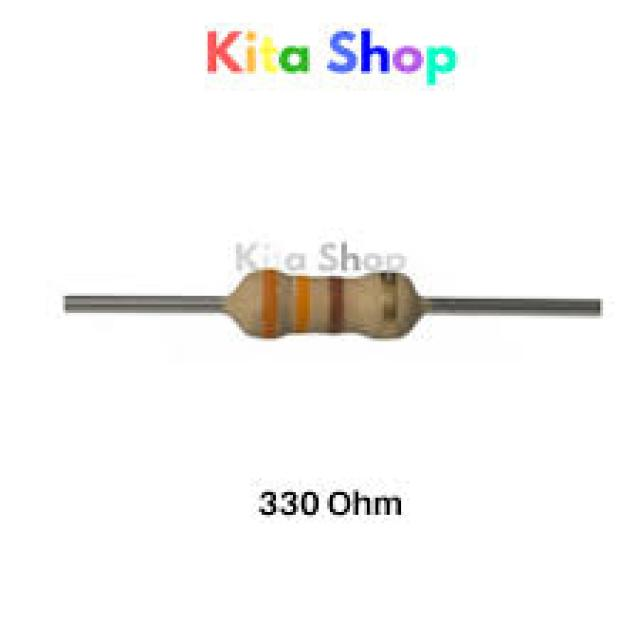capacitor: (208, 259, 438, 344)
